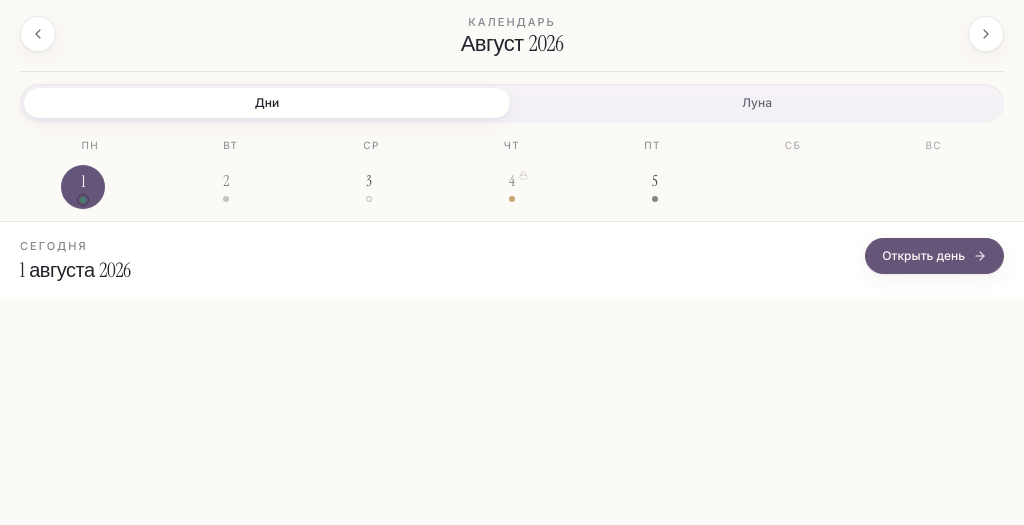
Test: CalendarScreen view toggle › switches between day cells and the lunar strip
Click the button with test id "calendar-view-moon".
click(757, 102)  # box [514,88,1000,118]
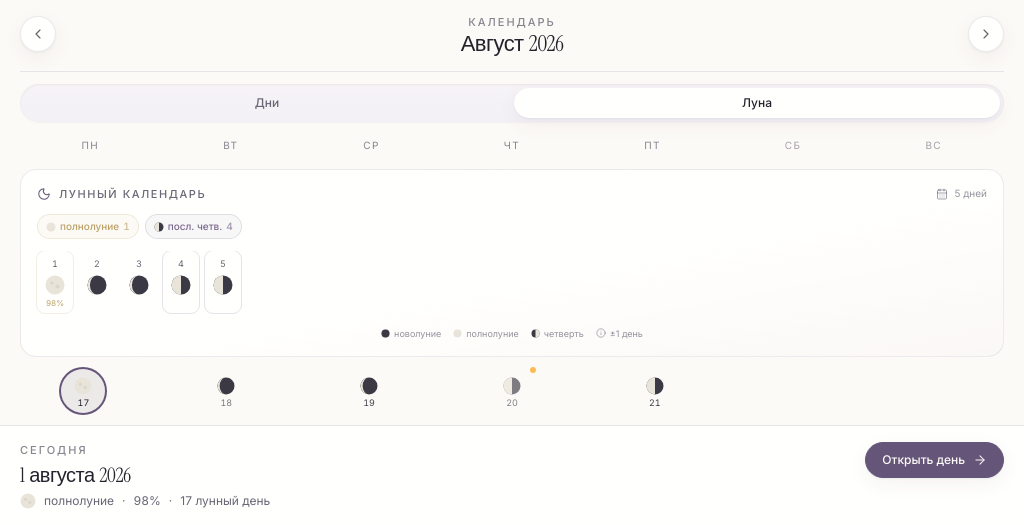
expect the element with test id "lunar-calendar-strip" is shown: met, box [0,152,1023,357]
expect the element with test id "calendar-moon-glyph-2026-08-01" is shown: met, box [73,376,93,396]
expect the text with test id "calendar-moon-day-2026-08-01" reads "17": met, box [78,396,89,408]
Click the button with test id "calendar-view-day".
click(267, 102)  # box [24,88,510,118]
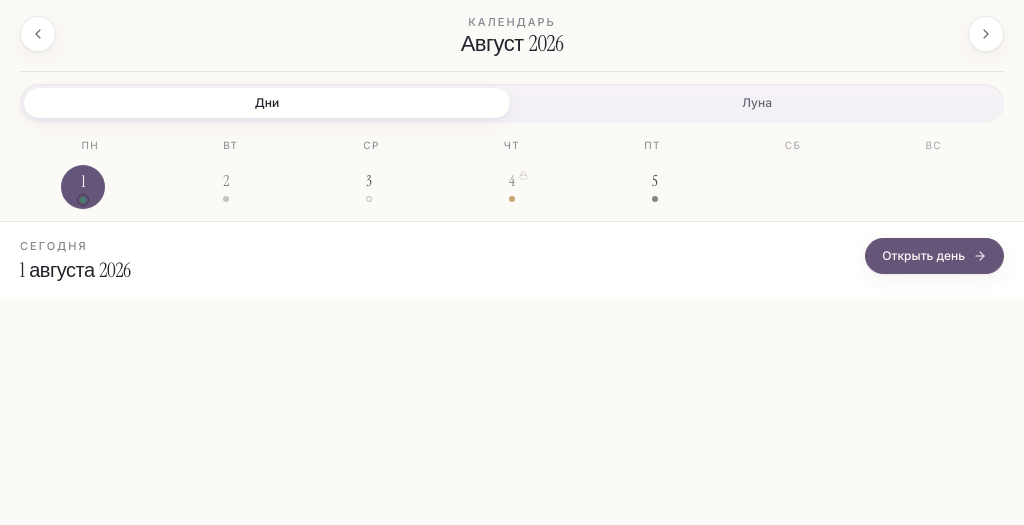
expect the element with test id "lunar-calendar-strip" is gone: met
